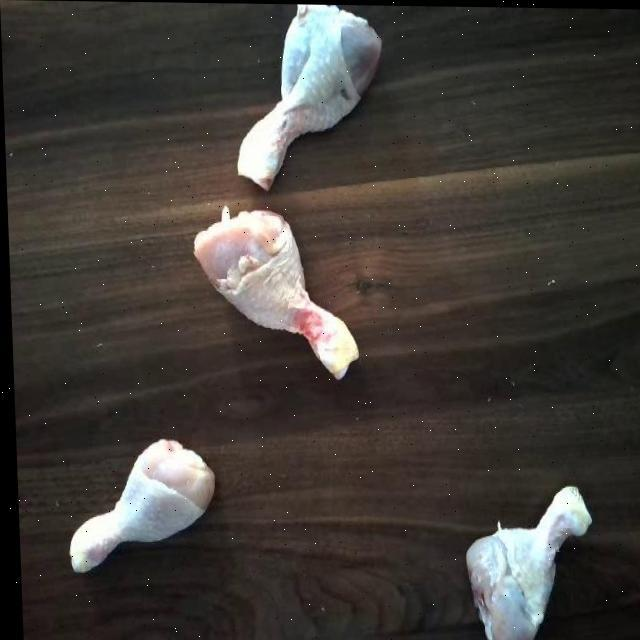leg: (189, 198, 359, 381), (228, 3, 384, 194), (44, 428, 220, 582), (442, 471, 596, 640)
